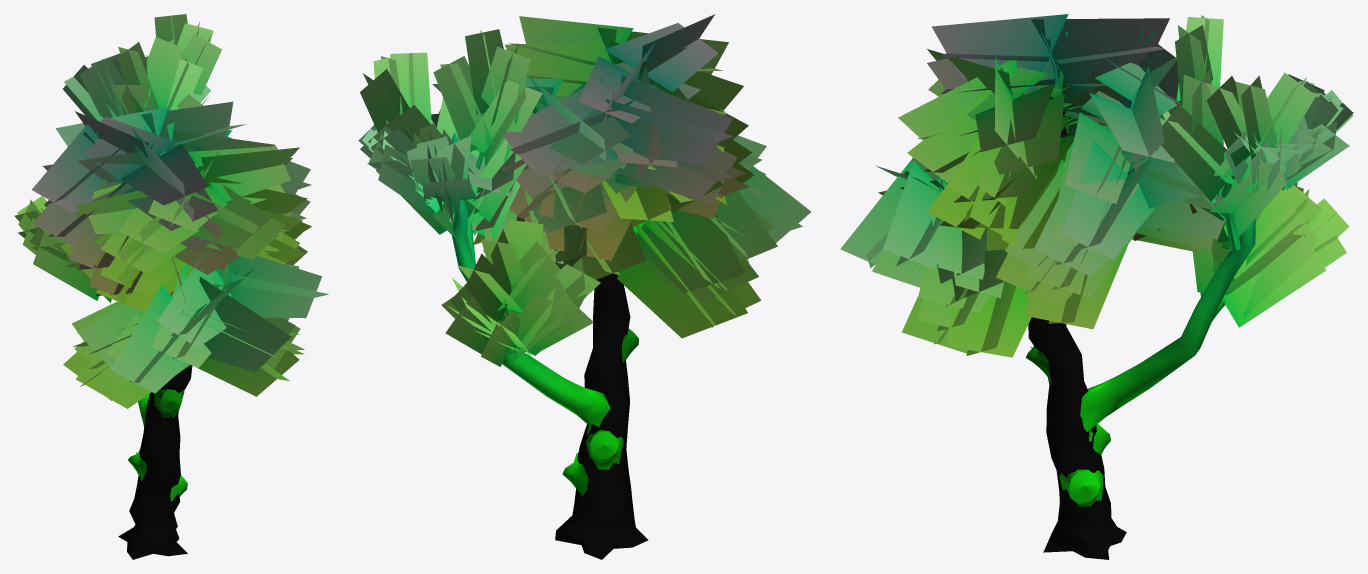
File: M_Realistic7_5.fbx
3 views of the same model, side by side, from view 1: azimuth 30°, elevation 25°; view 2: azimuth 150°, elevation 25°; view 3: azimuth 270°, elevation 25° (orthographic). The views are drawn at different scales.
Parts seen in each view (by area): view 1: Tree_5; view 2: Tree_5; view 3: Tree_5.
Part boxes in pixels (x1,y1,x2,y2): Tree_5: (14, 14, 328, 559); Tree_5: (358, 14, 811, 559); Tree_5: (840, 14, 1353, 559).
Bounding box in the file's own units: 1021 × 1589 × 1350.
